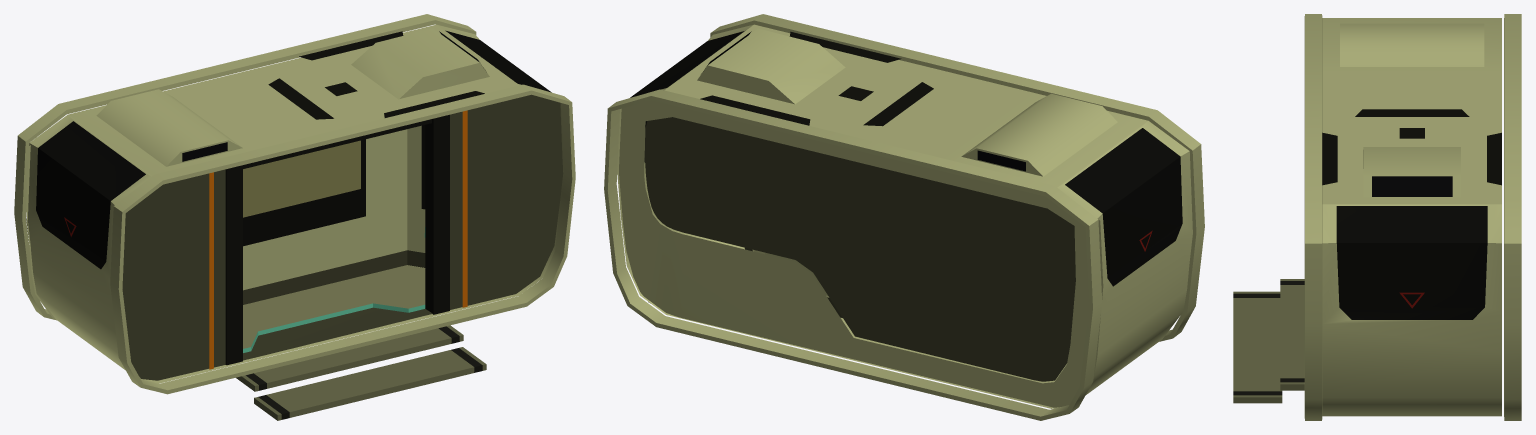
Rendered from W_O_Mobilestore_001_L3.fbx.
3 views of the same model, side by side, from view 1: azimuth 30°, elevation 25°; view 2: azimuth 150°, elevation 25°; view 3: azimuth 270°, elevation 25° (orthographic). The views are drawn at different scales.
Parts seen in each view (by area): view 1: W_O_mobilesstore_001_L3; view 2: W_O_mobilesstore_001_L3; view 3: W_O_mobilesstore_001_L3.
Part boxes in pixels (x1,y1,x2,y2): W_O_mobilesstore_001_L3: (14,14,575,420); W_O_mobilesstore_001_L3: (604,14,1204,420); W_O_mobilesstore_001_L3: (1233,14,1521,420).
Size of the model in its own units: 6.74 by 3.48 by 3.55.
